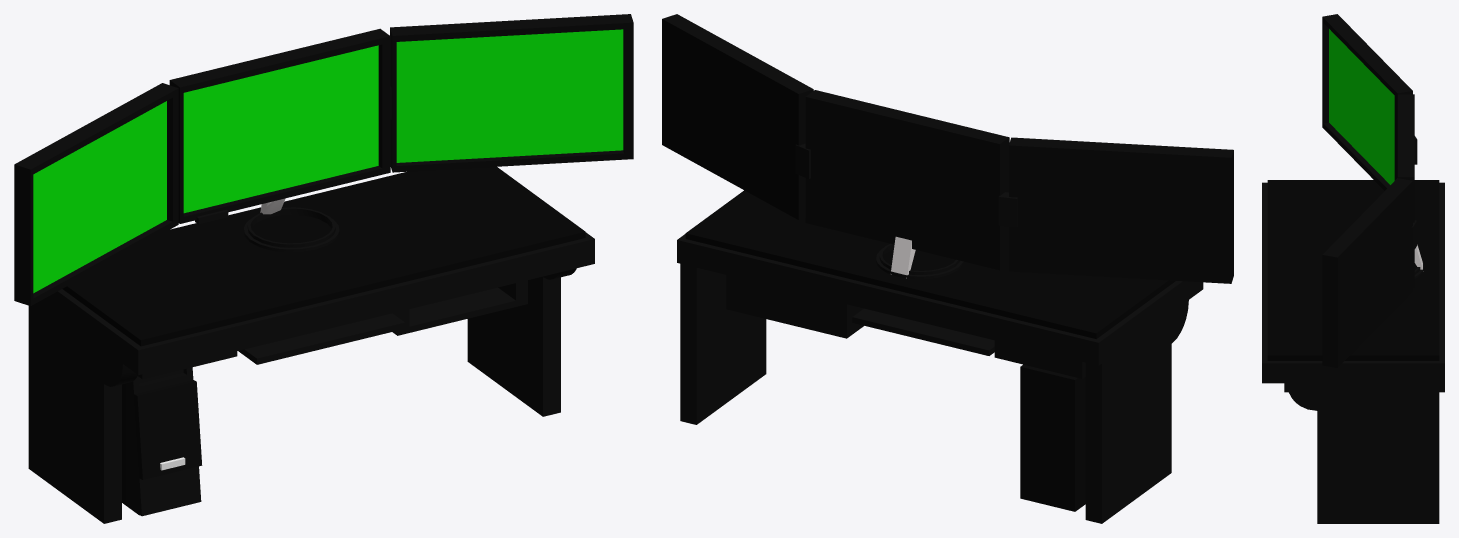
The model's file is 3_monitor_setup.fbx.
3 views of the same model, side by side, from view 1: azimuth 30°, elevation 25°; view 2: azimuth 150°, elevation 25°; view 3: azimuth 270°, elevation 25° (orthographic). The views are drawn at different scales.
Parts seen in each view (by area): view 1: Object_6, Object_8, Object_4, Object_9, Object_7; view 2: Object_9, Object_8, Object_4, Object_7, Object_5; view 3: Object_8, Object_4, Object_9, Object_6.
Part boxes in pixels (bbox=[...]): Object_6: bbox=[33, 29, 623, 293]; Object_8: bbox=[28, 86, 594, 523]; Object_4: bbox=[62, 166, 585, 346]; Object_9: bbox=[14, 14, 633, 306]; Object_7: bbox=[122, 380, 202, 504]; Object_9: bbox=[662, 14, 1233, 283]; Object_8: bbox=[677, 143, 1203, 523]; Object_4: bbox=[685, 190, 1175, 338]; Object_7: bbox=[1020, 364, 1085, 511]; Object_5: bbox=[891, 236, 915, 278]; Object_8: bbox=[1262, 136, 1444, 523]; Object_4: bbox=[1267, 180, 1439, 360]; Object_9: bbox=[1322, 14, 1414, 367]; Object_6: bbox=[1329, 29, 1394, 184].
Bounding box in the file's own units: 20.79 × 11.91 × 6.6.
